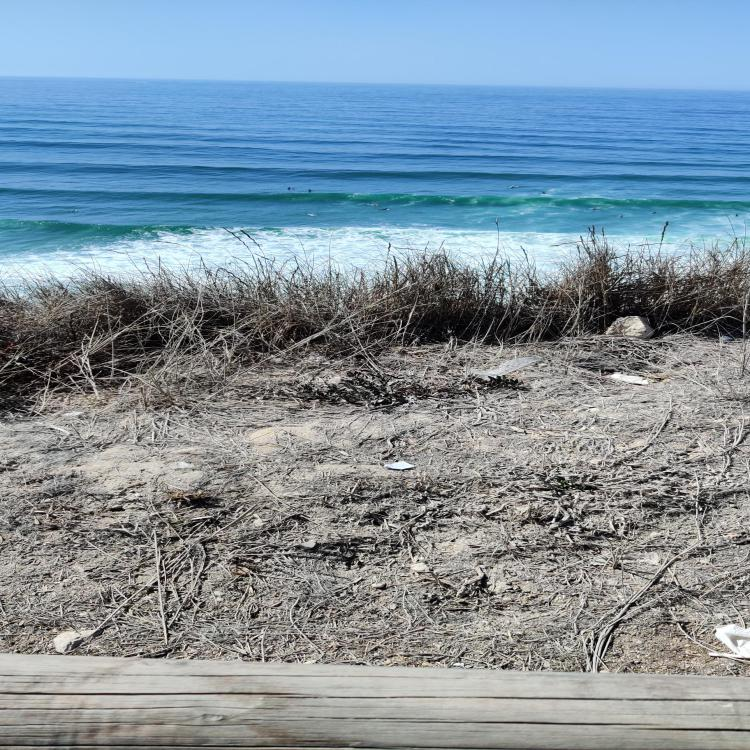Plastic film: (470, 357, 542, 378)
Unlabeled litter: (716, 624, 749, 660), (610, 374, 650, 384), (385, 461, 416, 470), (708, 652, 746, 659)
